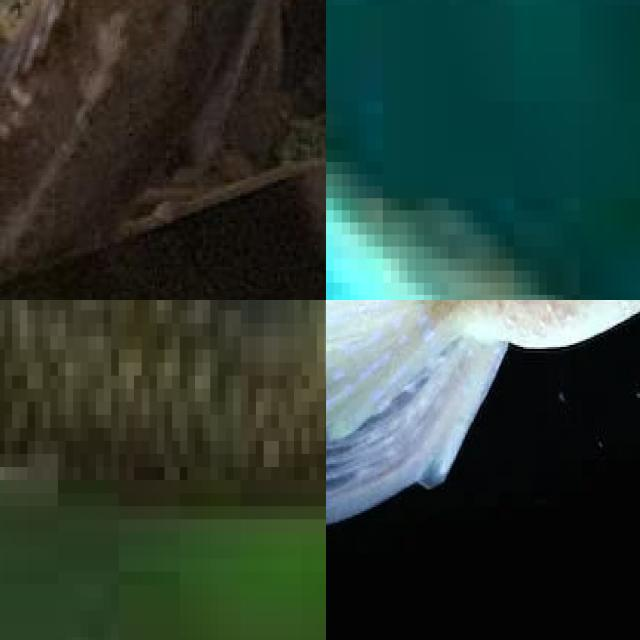fish: (0, 300, 326, 640), (0, 0, 326, 300)
